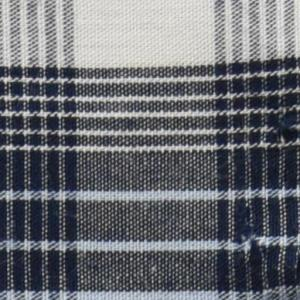Damage: (219, 198, 300, 300), (257, 103, 300, 154)
